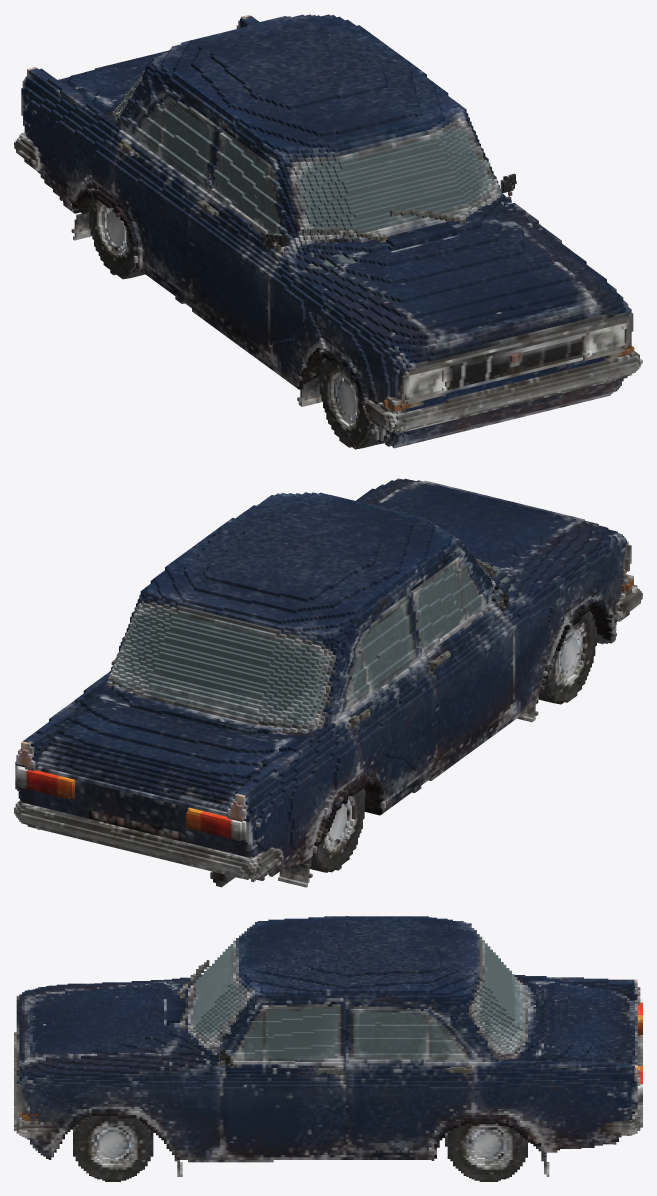
Rendered from Volga.fbx.
The picture shows the model from 3 angles, top to bottom: view 1: azimuth 30°, elevation 25°; view 2: azimuth 150°, elevation 25°; view 3: azimuth 270°, elevation 25°; orthographic projection. The views are drawn at different scales.
Visible parts, largest first — view 1: Voxelizer; view 2: Voxelizer; view 3: Voxelizer.
Part boxes in pixels (<box>): Voxelizer: <box>14,14,642,449</box>; Voxelizer: <box>14,478,642,887</box>; Voxelizer: <box>14,916,642,1181</box>.
Size of the model in its own units: 92 by 77 by 235.
